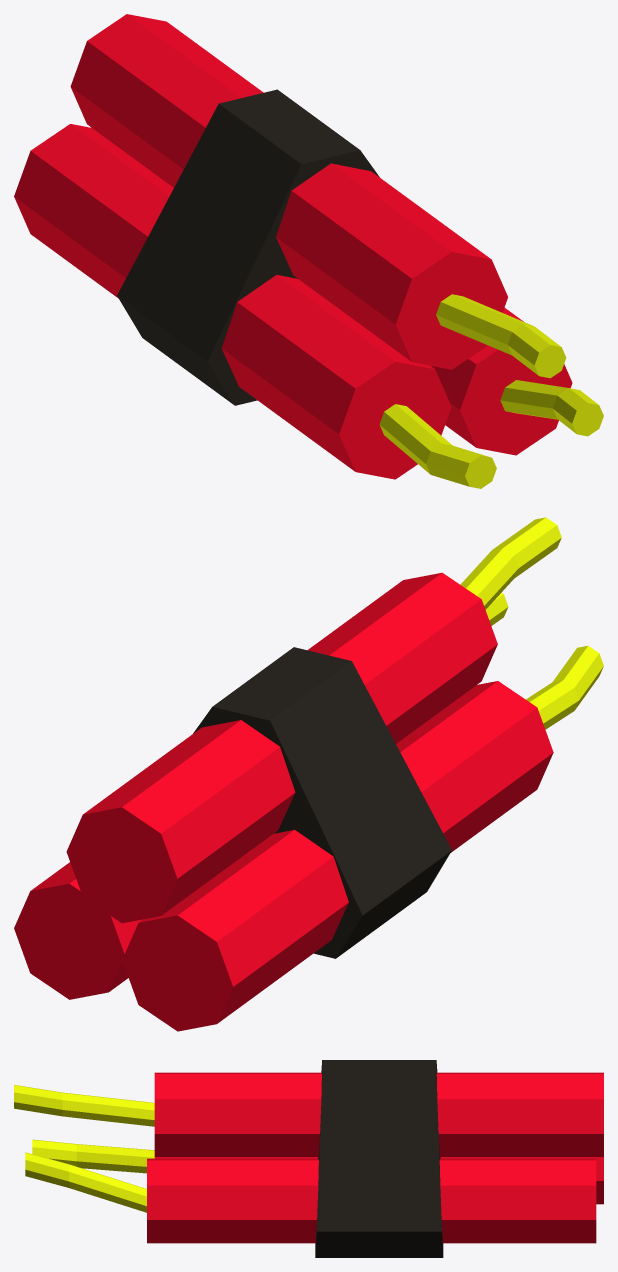
Rendered from TNT.glb.
3 renders of one model, top to bottom at view 1: azimuth 30°, elevation 25°; view 2: azimuth 150°, elevation 25°; view 3: azimuth 270°, elevation 25°, orthographic. The views are drawn at different scales.
Parts seen in each view (by area): view 1: Cylinder.001; view 2: Cylinder.001; view 3: Cylinder.001.
Part boxes in pixels (box(x1,y1,x2,y2)): Cylinder.001: box(14, 14, 603, 488); Cylinder.001: box(14, 517, 603, 1031); Cylinder.001: box(14, 1060, 603, 1257).
Size of the model in its own units: 0.9192 by 0.7518 by 2.63.
